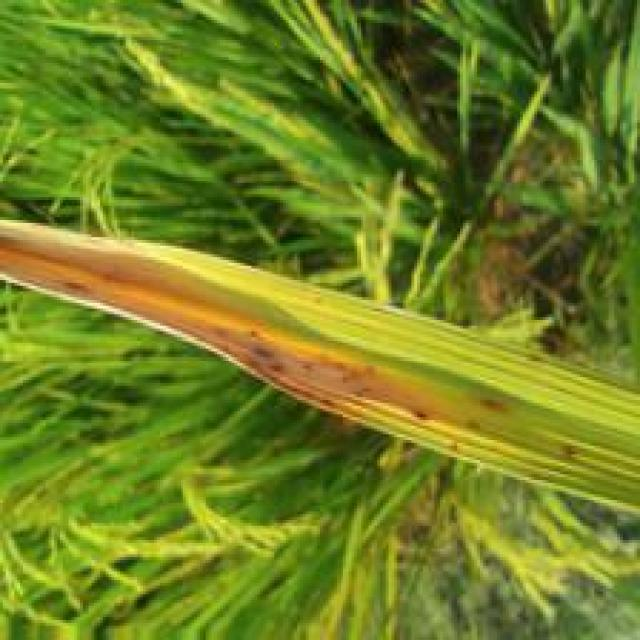Bacterial_Leaf_Blight: (0, 219, 381, 417)
